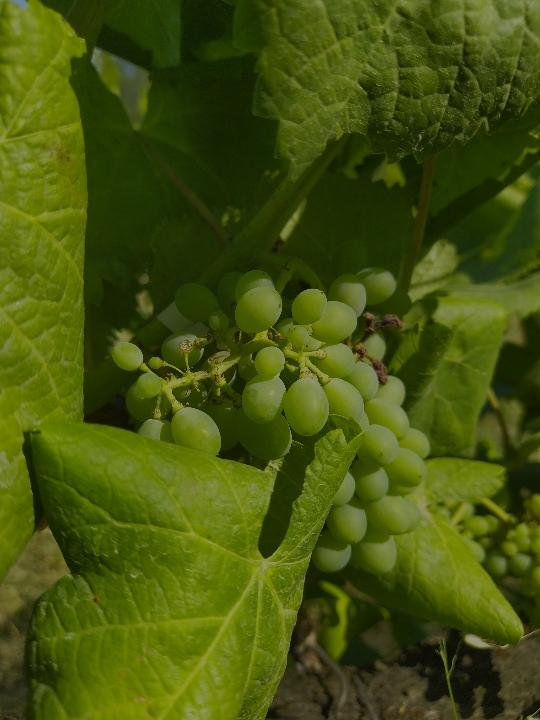grape: (106, 236, 432, 580)
